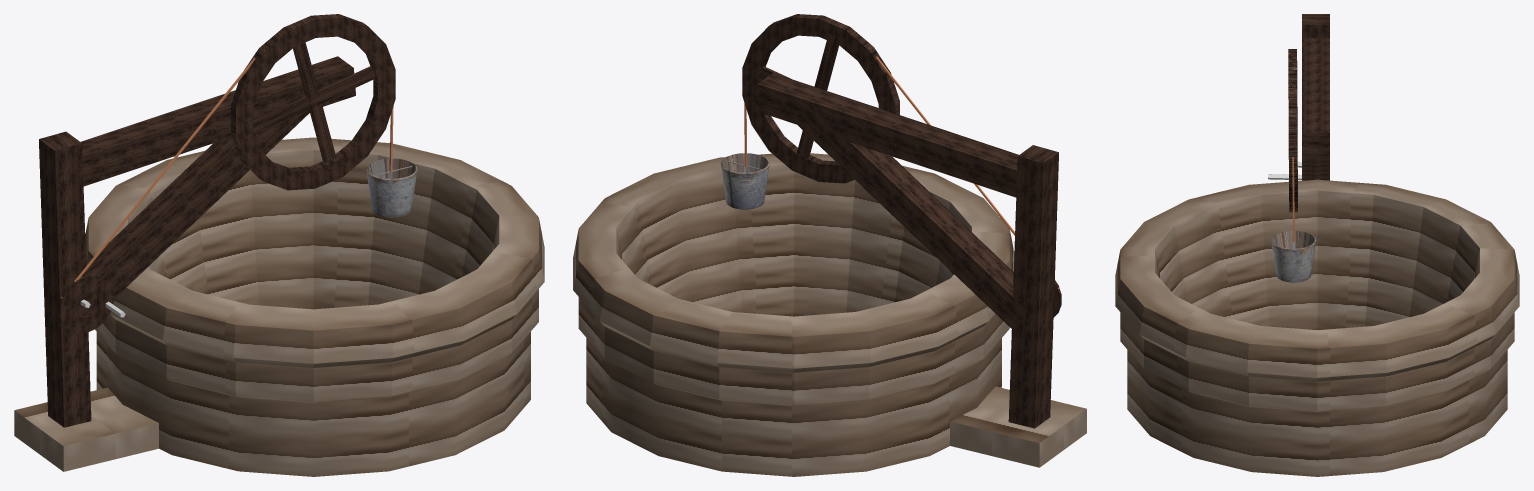
The picture shows the model from 3 angles, left to right: view 1: azimuth 30°, elevation 25°; view 2: azimuth 150°, elevation 25°; view 3: azimuth 270°, elevation 25°; orthographic projection. The views are drawn at different scales.
Parts seen in each view (by area): view 1: Cylinder001, Box009, Tube001, Box004, Box010, Box001, Cone001, Tube002, Box005, Box006, Box007; view 2: Cylinder001, Box009, Box004, Box010, Tube001, Box001, Cone001, Box006; view 3: Cylinder001, Box010, Cone001, Tube001, Box009, Box004.
Part boxes in pixels (bbox=[...]): Cylinder001: bbox=[85, 137, 544, 476]; Box009: bbox=[39, 131, 91, 427]; Tube001: bbox=[231, 14, 395, 190]; Box004: bbox=[75, 88, 309, 316]; Box010: bbox=[77, 56, 355, 186]; Box001: bbox=[14, 387, 158, 471]; Cone001: bbox=[366, 158, 417, 217]; Tube002: bbox=[58, 275, 113, 333]; Box005: bbox=[253, 66, 375, 134]; Box006: bbox=[293, 42, 336, 162]; Box007: bbox=[61, 57, 255, 298]; Cylinder001: bbox=[573, 153, 1014, 476]; Box009: bbox=[1008, 145, 1058, 428]; Box004: bbox=[794, 102, 1027, 330]; Box010: bbox=[755, 73, 1020, 197]; Tube001: bbox=[742, 14, 899, 183]; Box001: bbox=[950, 386, 1086, 467]; Cone001: bbox=[720, 153, 769, 209]; Box006: bbox=[796, 33, 839, 158]; Cylinder001: bbox=[1115, 179, 1519, 476]; Box010: bbox=[1302, 38, 1329, 158]; Cone001: bbox=[1271, 231, 1316, 282]; Tube001: bbox=[1288, 49, 1297, 212]; Box009: bbox=[1302, 14, 1329, 38]; Box004: bbox=[1302, 159, 1329, 180].
Bounding box in the file's own units: 1.46 × 1.11 × 1.22.
4 materials, 3 textured.
